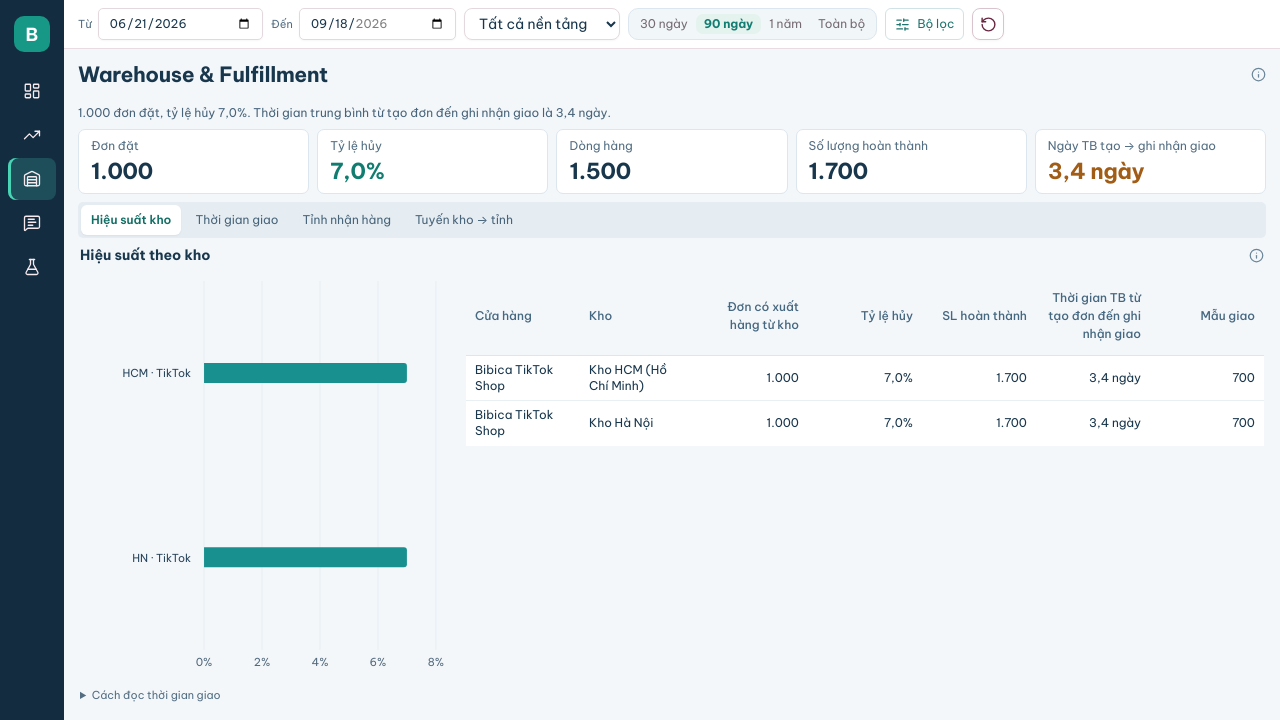
it: các trang dựng được với dữ liệu theo hợp đồng API › Warehouse: lỗi ở bảng tuyến chỉ báo trong khối đó, phần còn lại vẫn dùng được
The width and height of the screenshot is (1280, 720).
Expected: the heading "Hiệu suất theo kho" is shown, left=80, top=246, right=210, bottom=265
Click the tab "Tuyến kho → tỉnh" at point(464, 220), box left=405, top=205, right=523, bottom=235
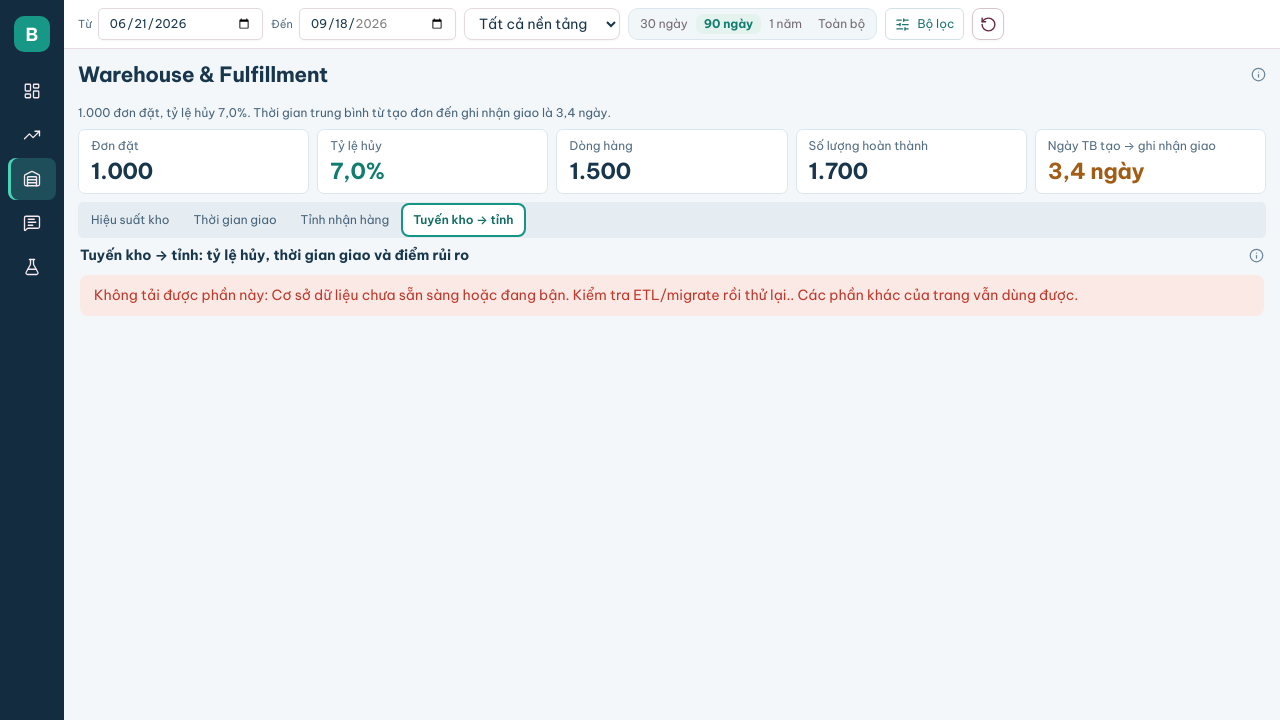
Expected: the heading "Warehouse & Fulfillment" is shown, left=78, top=59, right=328, bottom=90
Expected: the text "Không tải được phần này" is shown, left=94, top=286, right=272, bottom=304
Click the tab "Tỉnh nhận hàng" at point(345, 220), box left=291, top=205, right=399, bottom=235
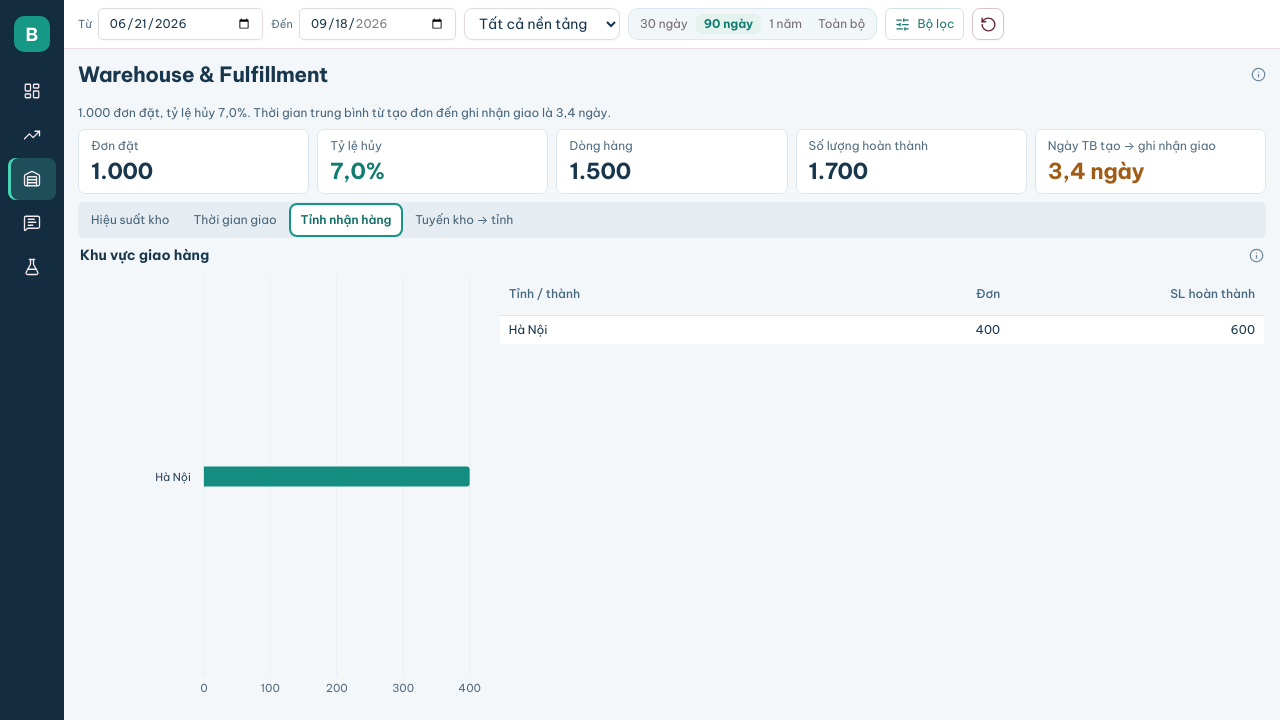
Expected: the heading "Khu vực giao hàng" is shown, left=80, top=246, right=209, bottom=265
